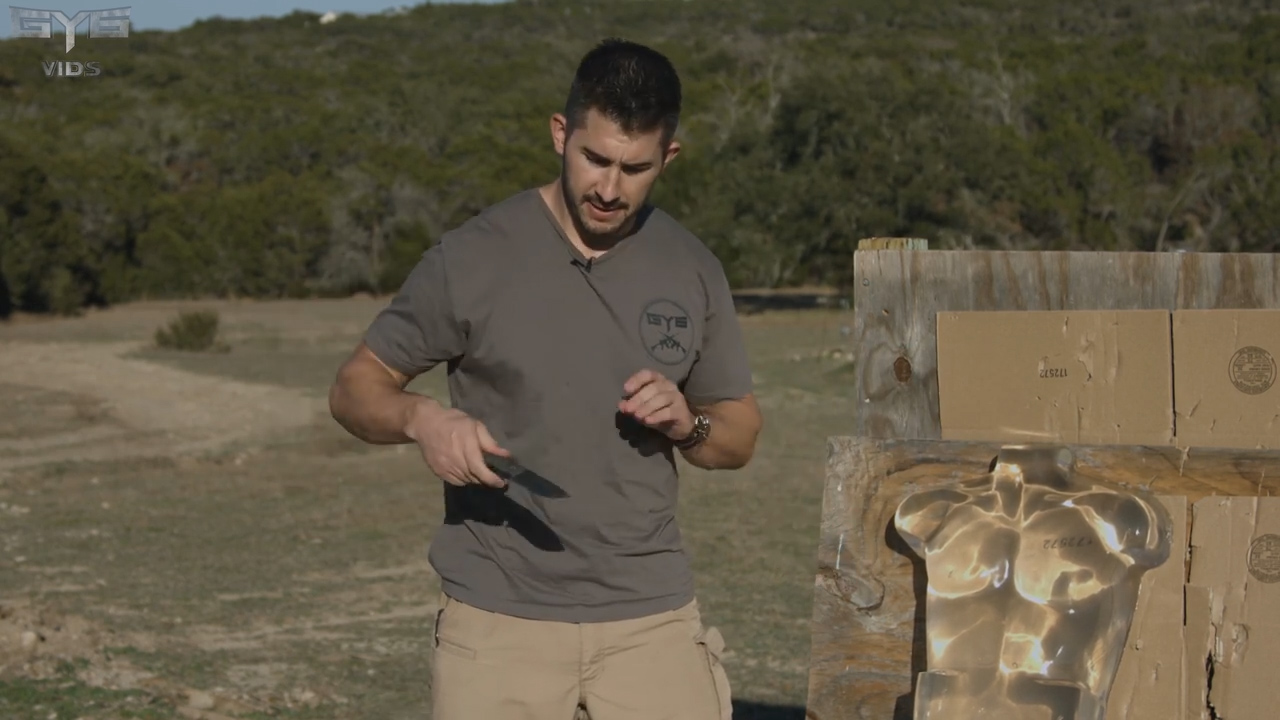knife: (414, 415, 577, 506)
